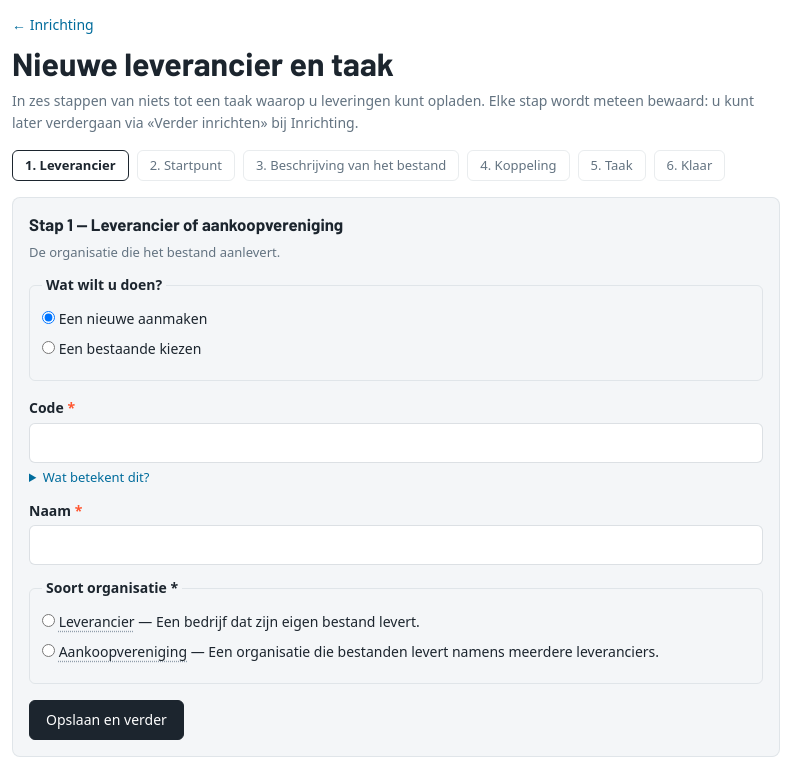
Test: NewSupplierWizardPage (NT-6) › 409 op de organisatiecode: Nederlandse melding bij het veld en "Doorgaan met de bestaande" (uitdrukkelijk)
Expected: the heading "Stap 1 — Leverancier of aankoopvereniging" is shown, [29,214,343,234]
Type "LEV-A" into the field labelled "Code *". click: (396, 443)
box: [29,423,763,463]
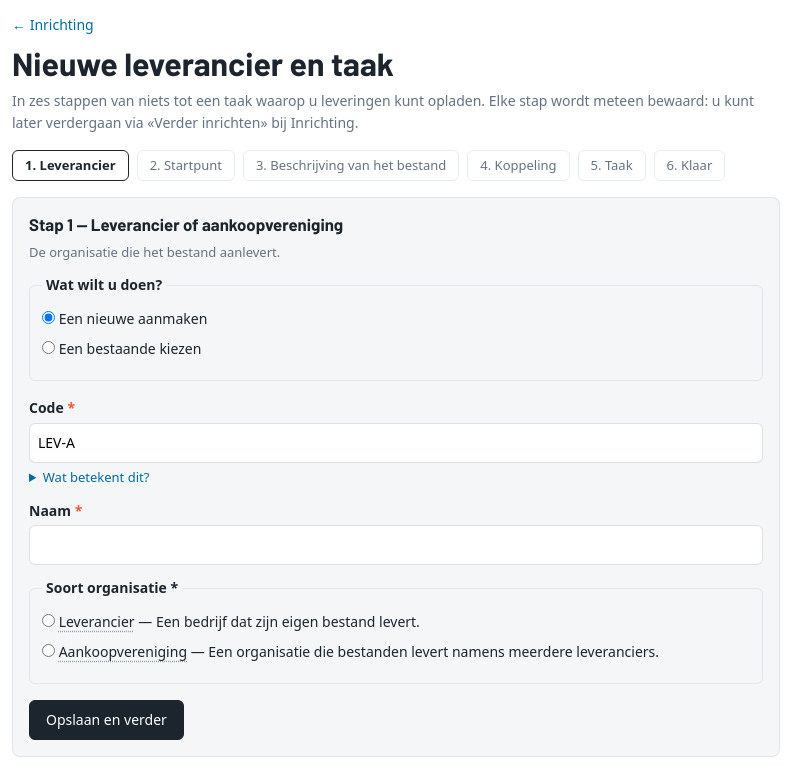
Type "Leverancier A" into the field labelled "Naam *". click: (396, 546)
box: [29,526,763,566]
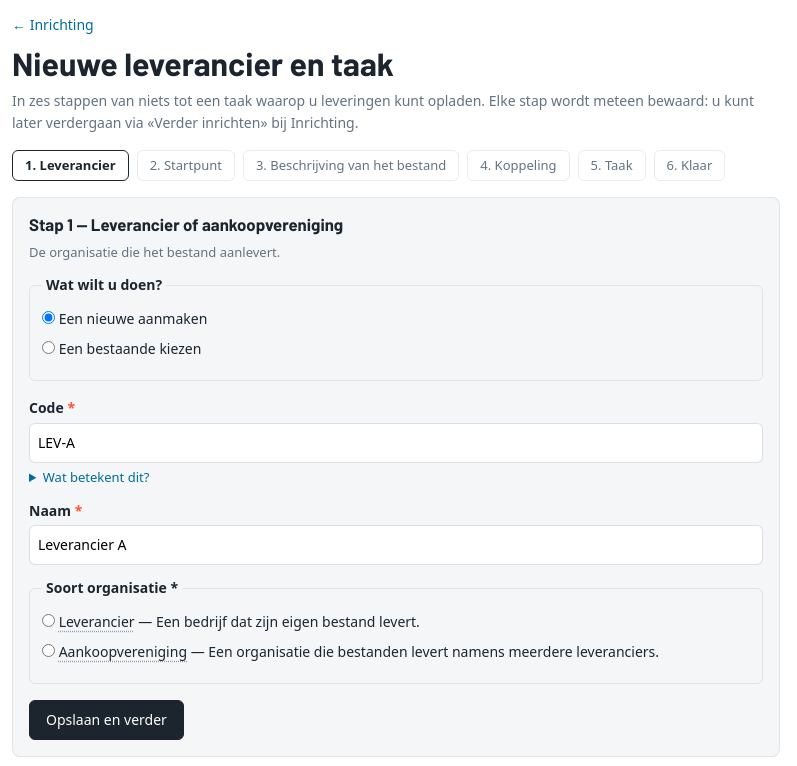
Click the radio button labelled "Leverancier — Een bedrijf dat zijn eigen bestand levert.". click: (48, 621)
box: [42,614,55,627]
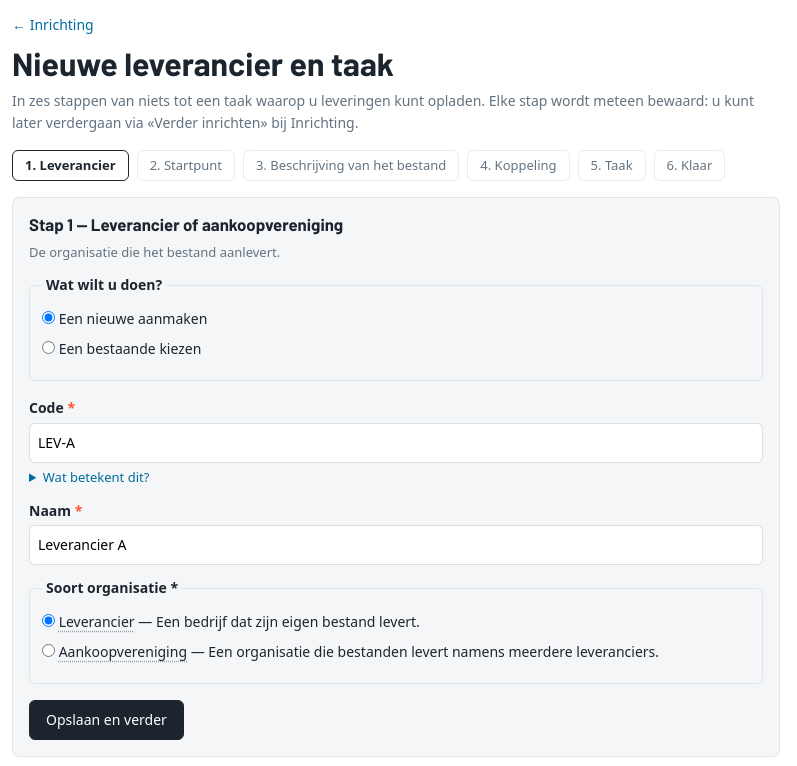
Click the button "Opslaan en verder". click: (106, 720)
box: [29,700,184,740]
(page scrolled)
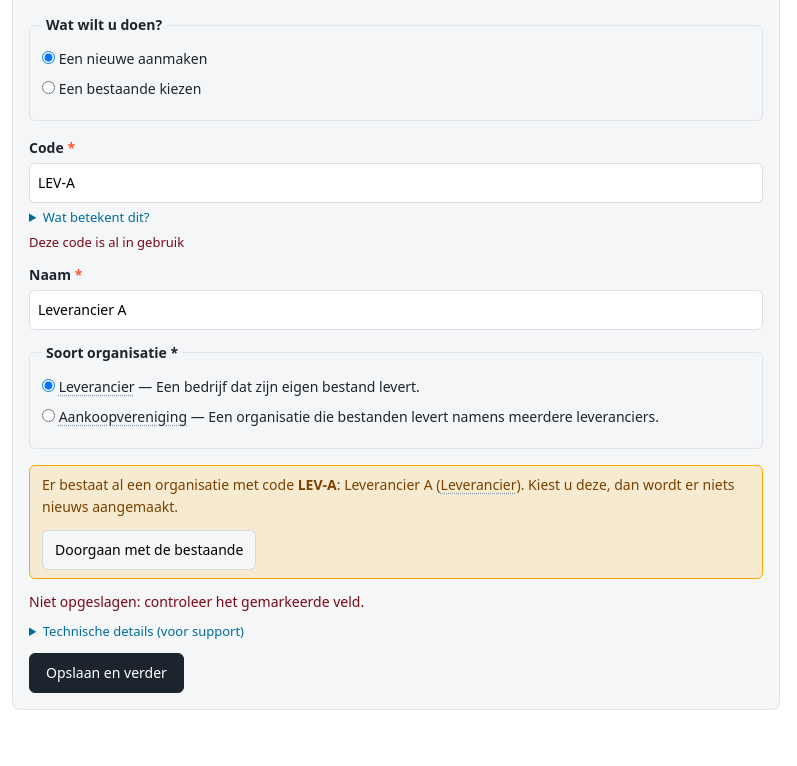
Now the message "Deze code is al in gebruik" is shown, box [29,232,184,250]
Now the message with test id "wizard-existing" shows "LEV-A", box [298,475,337,494]
Click the button "Doorgaan met de bestaande". click: (149, 550)
box: [42,530,256,570]
(page scrolled)
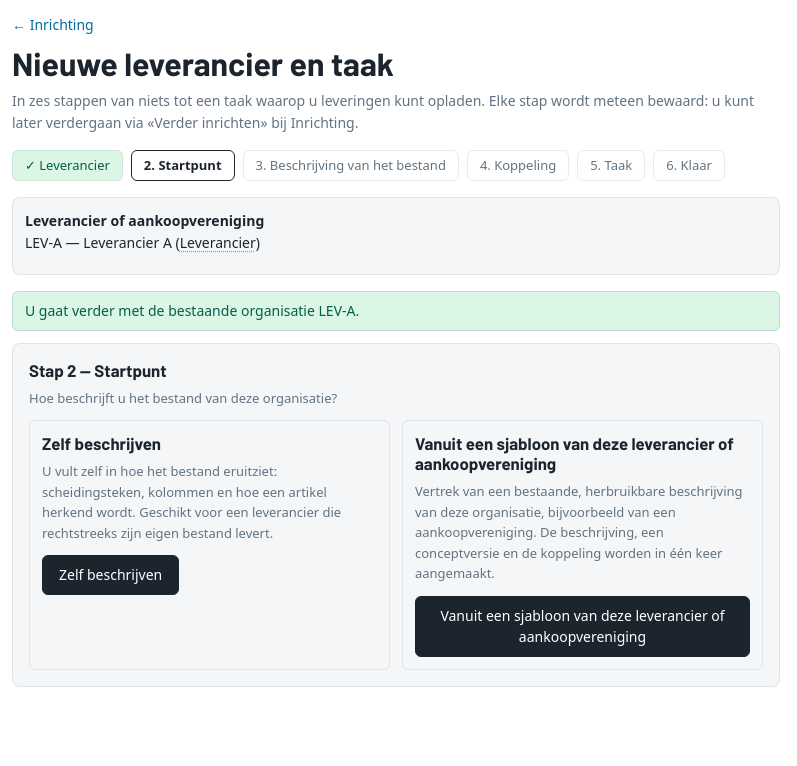
Now the heading "Stap 2 — Startpunt" is shown, box [29,360,167,380]
Now the message with test id "wizard-notice" shows "bestaande organisatie LEV-A", box [25,301,359,320]
